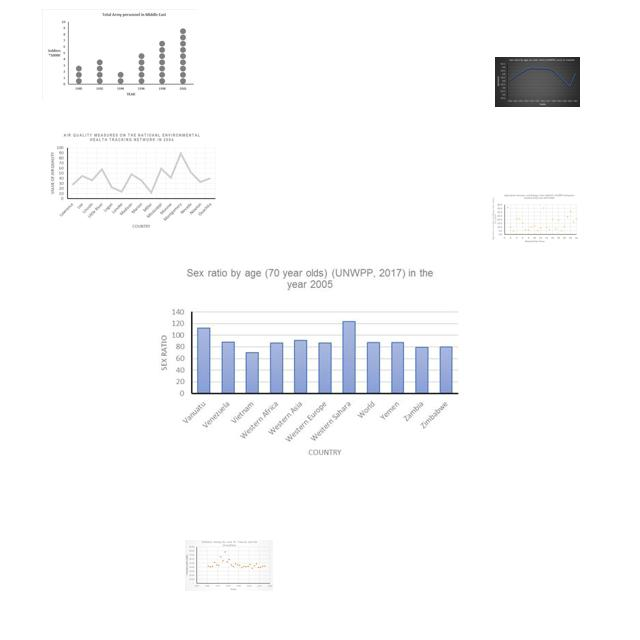Graph: (153, 264, 464, 464), (47, 131, 218, 233), (42, 9, 197, 100), (490, 192, 579, 245), (185, 540, 273, 591), (495, 57, 580, 107)
